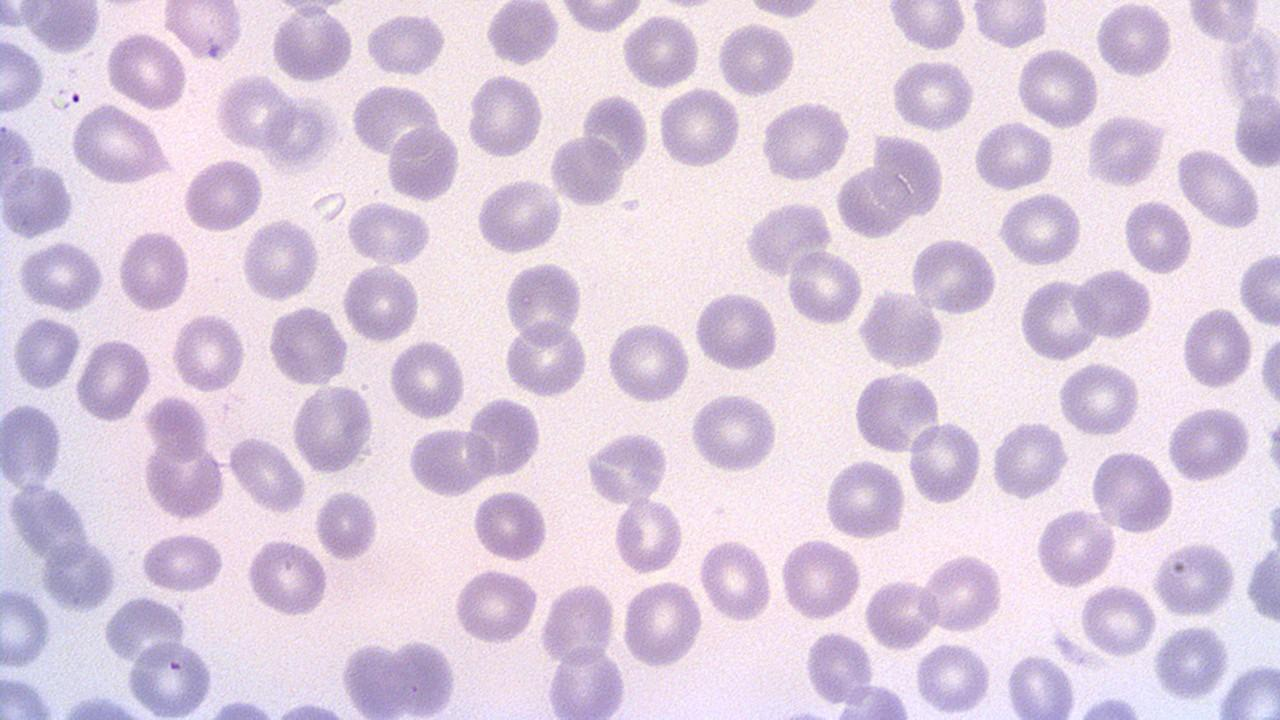RBC: (66, 105, 172, 186), (850, 368, 944, 455), (289, 382, 375, 476), (759, 98, 851, 185), (619, 576, 704, 670), (688, 390, 780, 475), (1173, 146, 1265, 230), (692, 288, 780, 375), (6, 481, 94, 567), (605, 318, 691, 406), (656, 83, 742, 171), (1088, 448, 1174, 535), (142, 434, 226, 523), (450, 564, 540, 647), (125, 636, 216, 718), (474, 174, 564, 256), (1016, 274, 1101, 360), (920, 550, 1005, 635), (823, 456, 907, 542), (856, 290, 946, 370), (908, 235, 998, 315), (1165, 401, 1251, 484), (269, 2, 355, 84), (267, 302, 349, 388), (779, 536, 861, 622), (503, 317, 590, 398), (503, 258, 583, 346), (906, 416, 984, 506), (1014, 46, 1099, 128), (239, 218, 320, 304), (465, 72, 544, 160), (74, 335, 152, 424), (540, 578, 617, 668), (245, 536, 329, 618), (998, 189, 1085, 268), (387, 335, 466, 422), (351, 81, 440, 158), (870, 130, 946, 220), (214, 72, 299, 152), (466, 395, 544, 481), (1150, 539, 1236, 617), (890, 56, 976, 134), (116, 226, 192, 314), (104, 30, 187, 110), (990, 416, 1068, 501), (14, 239, 106, 311), (1055, 360, 1141, 437), (698, 536, 774, 623), (582, 430, 670, 505), (715, 18, 797, 98), (181, 155, 264, 234), (1180, 303, 1254, 391), (341, 262, 420, 344), (543, 641, 627, 718), (1034, 508, 1114, 588), (621, 11, 701, 91), (784, 248, 864, 328), (1152, 620, 1230, 702), (171, 310, 247, 394), (406, 424, 492, 498), (102, 593, 190, 665), (226, 432, 305, 512), (971, 117, 1055, 192), (834, 162, 914, 240), (1086, 112, 1168, 188), (0, 161, 78, 240), (1072, 265, 1152, 342), (385, 636, 460, 718), (345, 197, 432, 267), (1078, 582, 1158, 658), (1121, 194, 1195, 276), (385, 123, 462, 201), (470, 487, 549, 563), (612, 494, 685, 576), (863, 576, 941, 652), (1095, 2, 1173, 78), (548, 132, 625, 208), (262, 94, 336, 173), (803, 626, 875, 706), (1, 399, 65, 489), (914, 640, 991, 714), (364, 10, 447, 78), (39, 540, 117, 612), (11, 314, 81, 392), (137, 530, 223, 593), (313, 485, 381, 562), (482, 2, 562, 66), (12, 0, 103, 56), (162, 1, 244, 62), (1004, 652, 1078, 716), (0, 586, 52, 668), (886, 1, 968, 52), (970, 1, 1050, 50), (1216, 659, 1280, 719), (1, 35, 45, 119), (1232, 90, 1280, 167), (1183, 1, 1265, 44), (1237, 250, 1279, 326), (834, 680, 912, 719), (554, 0, 646, 33), (1257, 326, 1280, 414), (742, 0, 823, 19)
